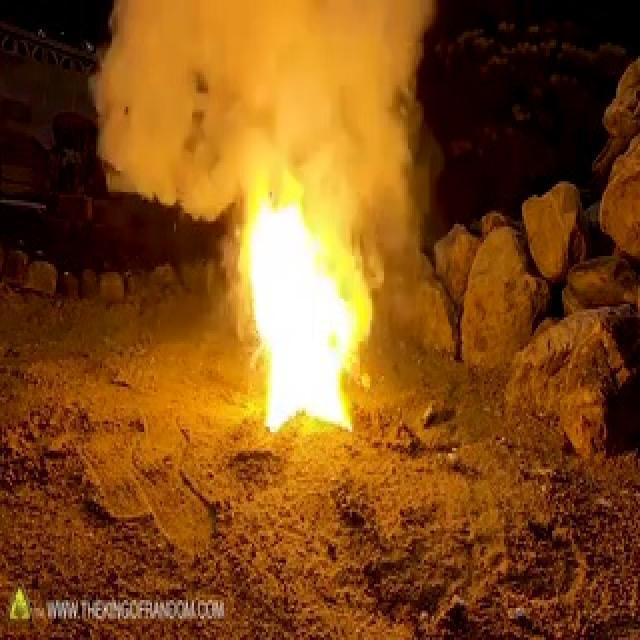fire: (252, 254, 382, 406)
